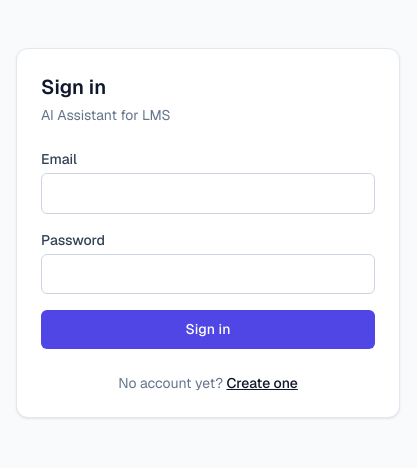
Test: <LoginForm /> › displays the backend's message when login is rejected
Step 1. Type "instructor@demo.com" into the field labelled "Email" → (208, 194), box top-left (41, 173), bottom-right (375, 214)
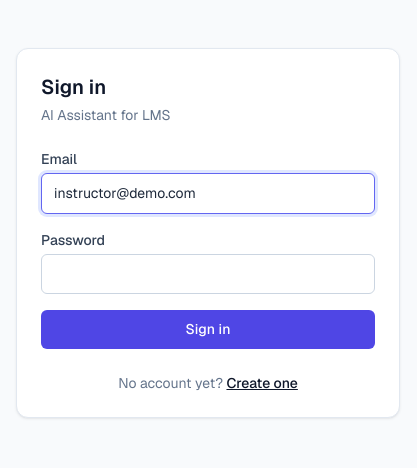
Step 2. Type "wrong" into the password field labelled "Password" → (208, 274), box top-left (41, 254), bottom-right (375, 294)
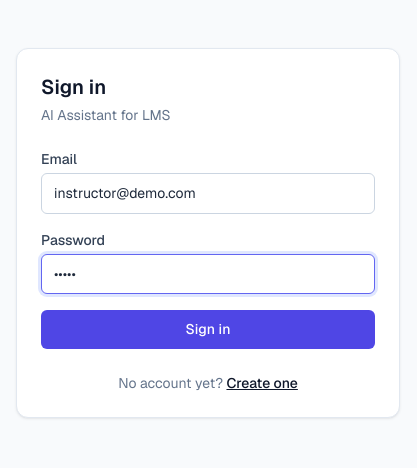
Step 3. Click the button "Sign in" → (208, 329), box top-left (41, 310), bottom-right (375, 349)
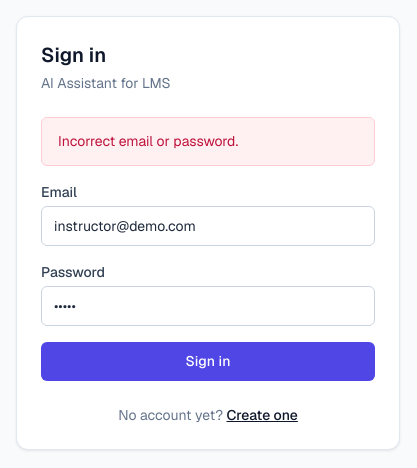
Expected: the button "Sign in" is enabled, top-left (41, 342), bottom-right (375, 381)
Expected: the message reads "Incorrect email or password.", top-left (58, 132), bottom-right (238, 150)
